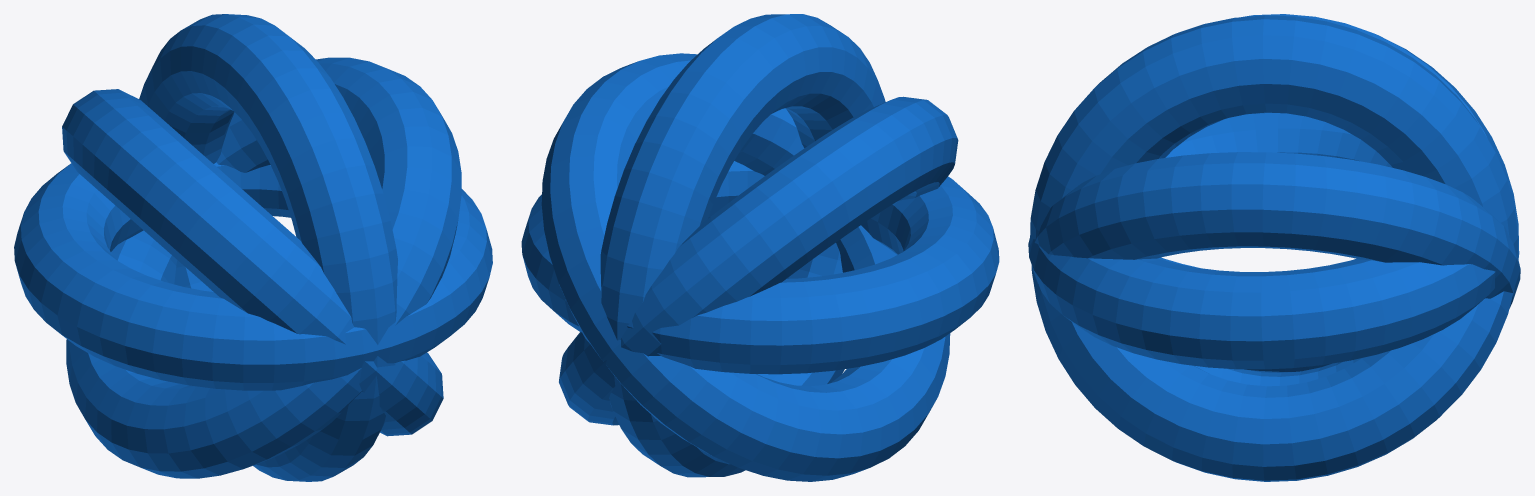
The model's file is Invincibility.fbx.
The picture shows the model from 3 angles, left to right: view 1: azimuth 30°, elevation 25°; view 2: azimuth 150°, elevation 25°; view 3: azimuth 270°, elevation 25°; orthographic projection. The views are drawn at different scales.
Parts seen in each view (by area): view 1: Torus.001, Torus; view 2: Torus, Torus.001; view 3: Torus.001, Torus.
Boxes of the visible parts, x1=… form: Torus.001: x1=14, y1=14, x2=492, y2=481; Torus: x1=62, y1=57, x2=461, y2=478; Torus: x1=541, y1=53, x2=958, y2=481; Torus.001: x1=521, y1=14, x2=999, y2=477; Torus.001: x1=1028, y1=15, x2=1518, y2=386; Torus: x1=1031, y1=14, x2=1520, y2=481.
Size of the model in its own units: 159 by 159 by 160.
